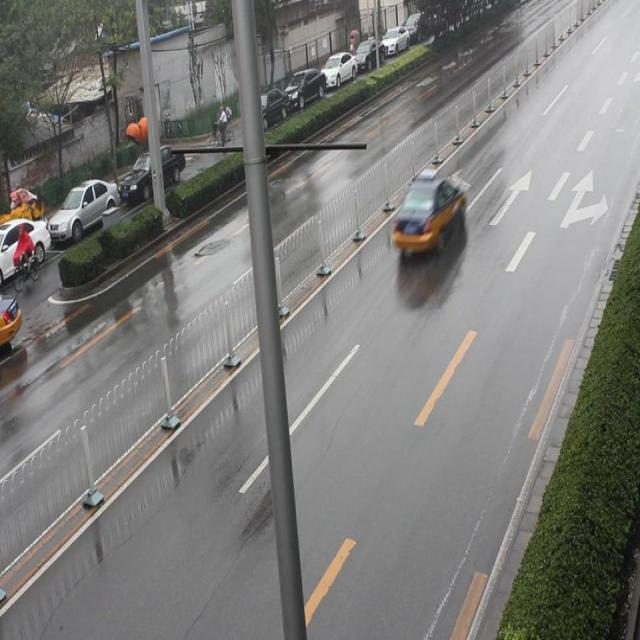car: (390, 166, 465, 262), (1, 285, 24, 354)
